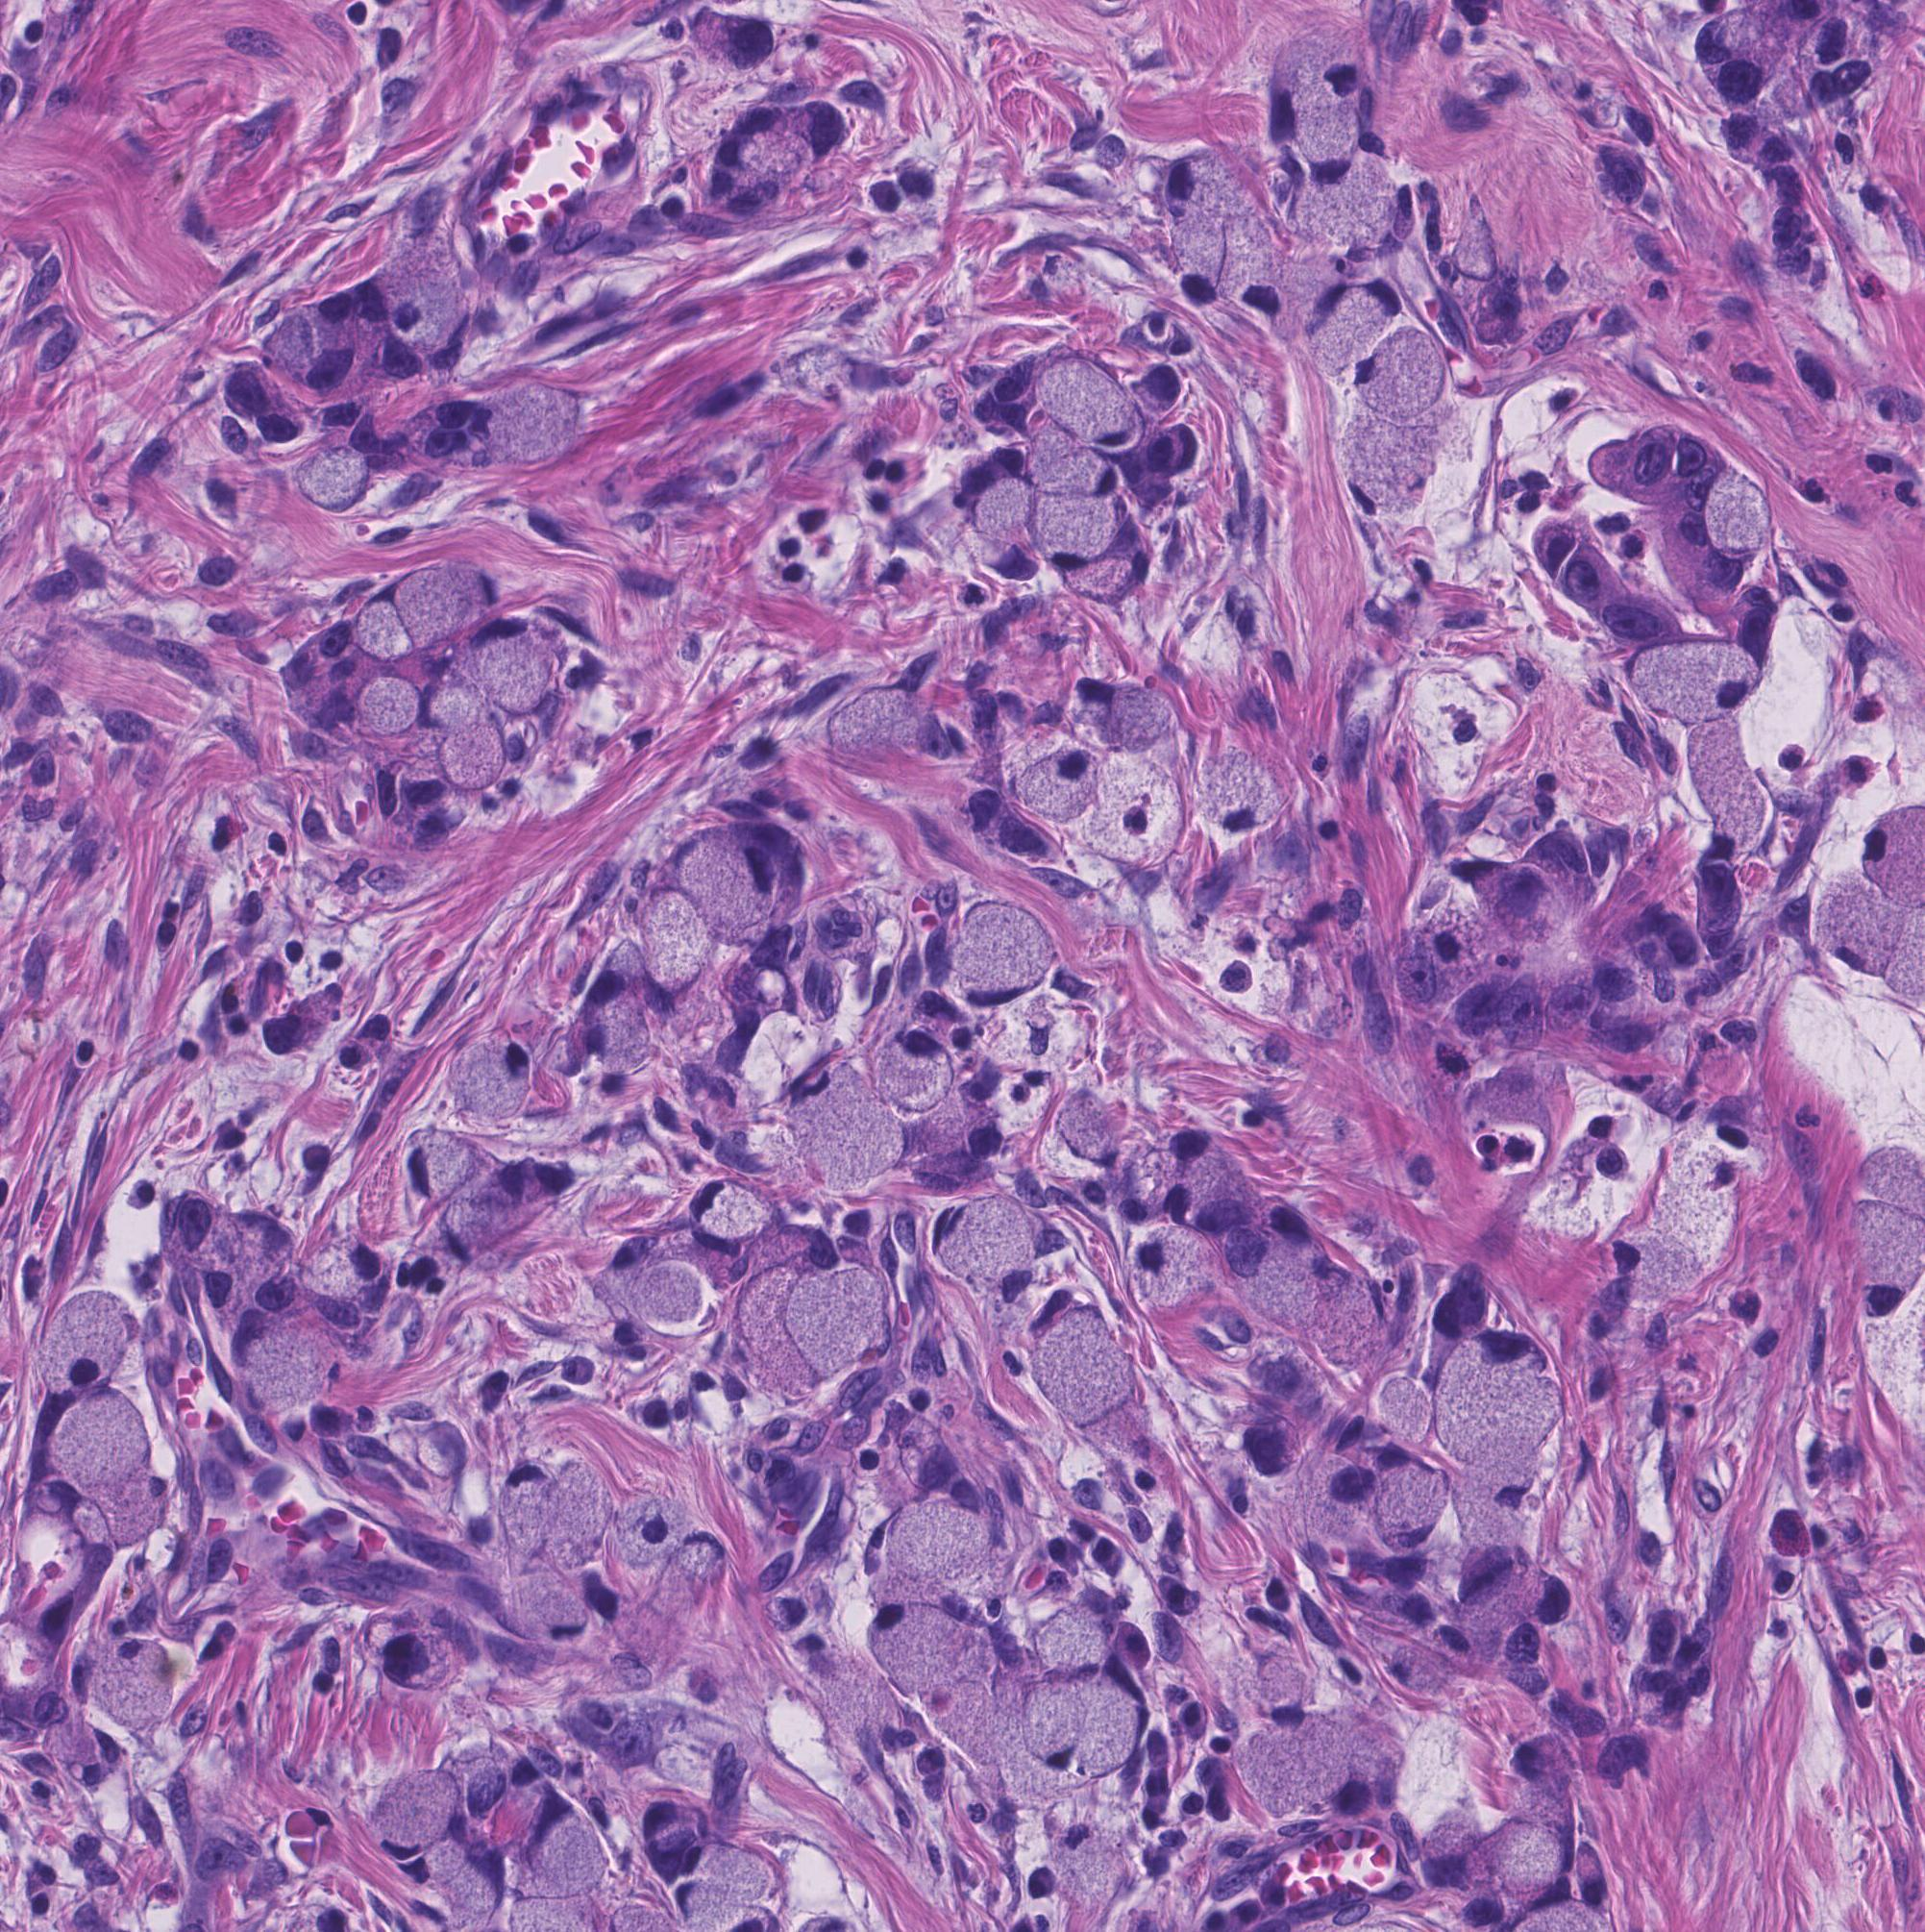ring_cell_cancer: (784, 1245, 896, 1373), (1451, 1331, 1557, 1461), (1624, 635, 1761, 730), (1678, 719, 1775, 853), (1029, 1297, 1126, 1428), (864, 1490, 998, 1581), (786, 1063, 888, 1179), (370, 247, 467, 365), (1262, 1717, 1370, 1823), (825, 677, 947, 767), (33, 1410, 183, 1482), (673, 823, 779, 925), (952, 901, 1049, 1008), (1037, 358, 1141, 453), (222, 1313, 326, 1407), (1809, 874, 1897, 984), (866, 1599, 971, 1689), (635, 888, 716, 1001), (1156, 1126, 1250, 1223), (437, 1195, 539, 1280), (460, 388, 589, 455), (41, 1289, 125, 1387), (395, 559, 494, 642), (368, 1768, 460, 1856), (518, 1796, 603, 1891), (931, 1195, 1026, 1276), (1199, 749, 1289, 834), (1347, 428, 1437, 511), (714, 106, 804, 187), (869, 1031, 952, 1116), (1356, 333, 1444, 412), (1086, 1675, 1151, 1780), (1012, 1673, 1079, 1775), (446, 1038, 529, 1119), (497, 1461, 561, 1567), (1313, 280, 1396, 358), (1158, 159, 1252, 227), (1044, 1823, 1119, 1907), (1077, 675, 1167, 746), (1128, 1229, 1213, 1303), (97, 1641, 173, 1722), (686, 1176, 770, 1248), (1022, 1608, 1104, 1682), (474, 622, 545, 707), (390, 1137, 471, 1209), (1294, 90, 1357, 182), (289, 446, 375, 513), (686, 7, 774, 72), (1017, 747, 1096, 820), (1037, 497, 1118, 566), (1377, 1465, 1446, 1546), (1299, 1453, 1366, 1535), (1028, 442, 1118, 504), (1054, 1089, 1121, 1170), (603, 1493, 673, 1569), (518, 1572, 585, 1652), (1167, 222, 1230, 305), (580, 1007, 652, 1075), (1091, 545, 1171, 603), (347, 592, 412, 661), (689, 1839, 763, 1895), (416, 673, 479, 732), (675, 1525, 728, 1594), (668, 1879, 737, 1925)
